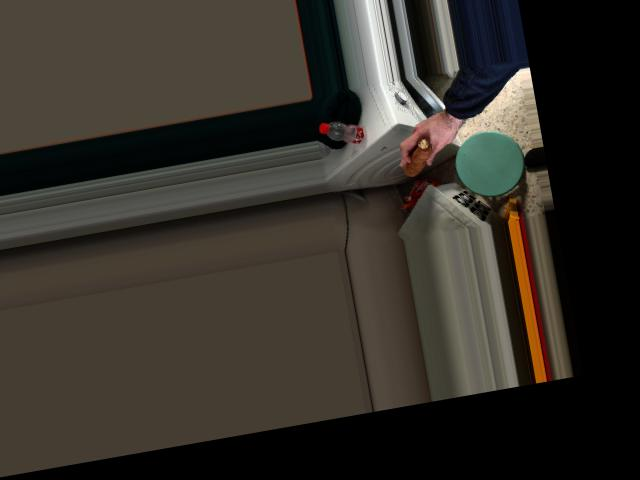sweet_potato: (394, 133, 440, 177)
